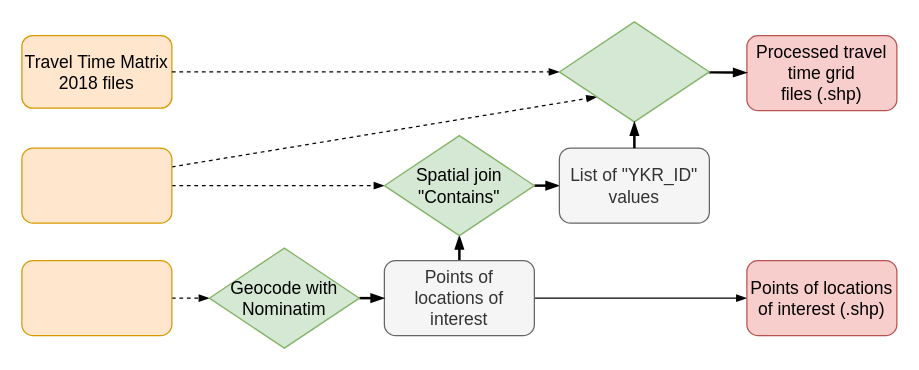
The diagram is 919 pixels wide and 370 high, and some of its shapes have lost their labels. Here are the shapes that lost their labels. From the top down, the centre of each, then its label:
At [633,71]: "Join by ID values".
At [96,185]: "YKR Grid".
At [96,297]: "Table of addresses".
